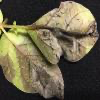Potato leaf late blight: (0, 23, 65, 100), (28, 1, 99, 65)
